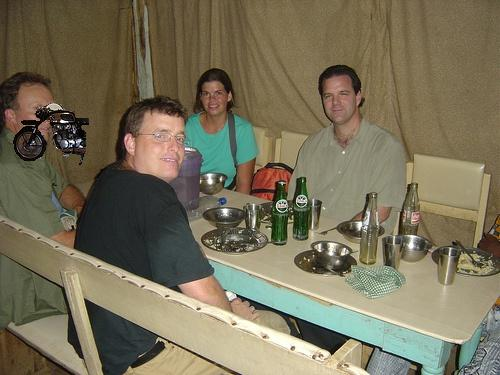tampered: (14, 104, 89, 165)
